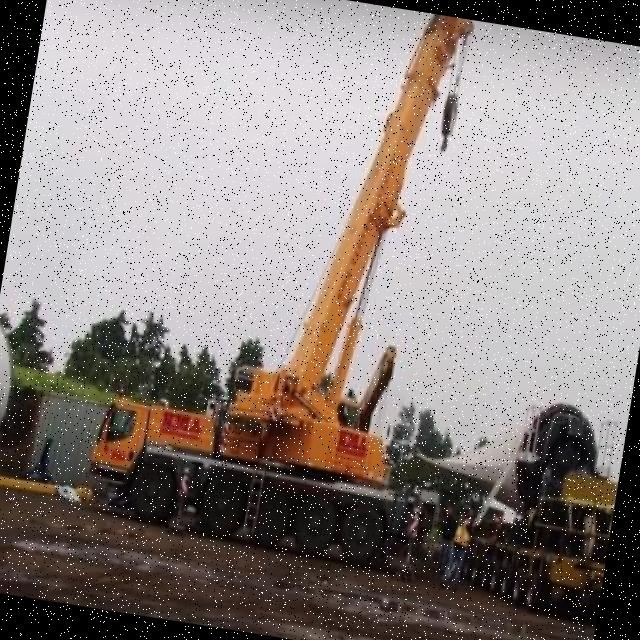Mobile Crane: (79, 0, 507, 583)
